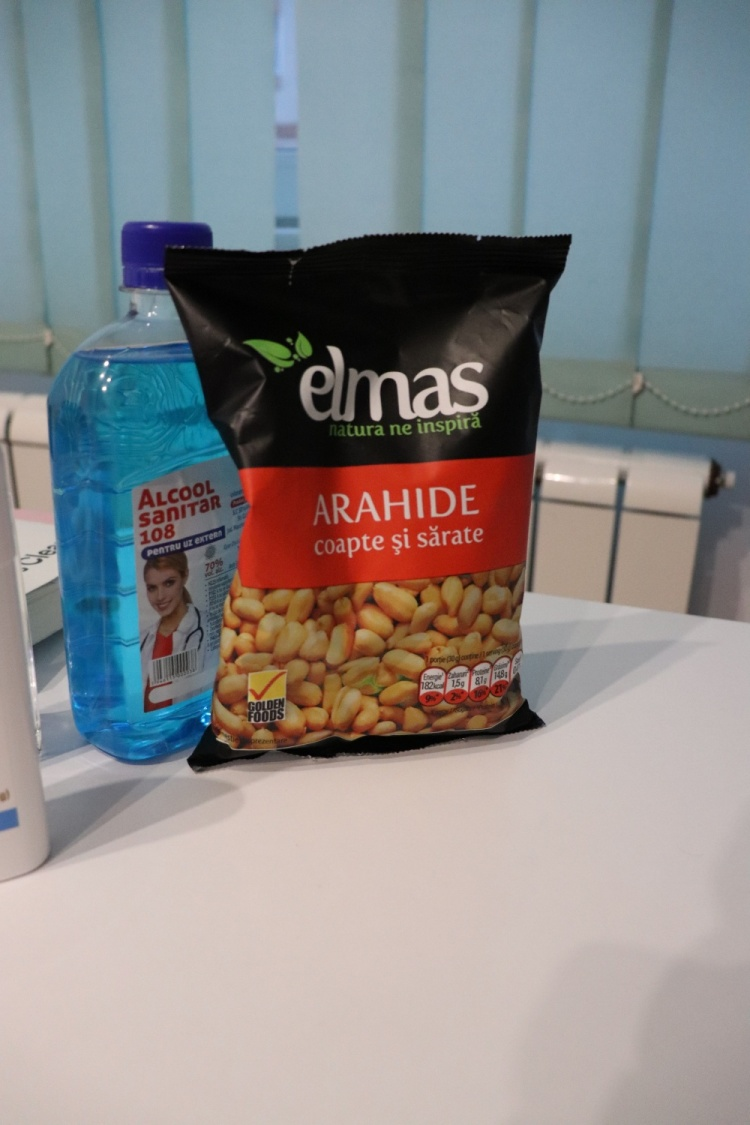peanuts: (161, 229, 560, 777)
